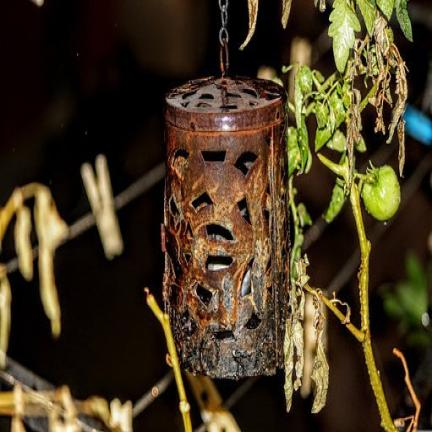karat: (162, 78, 289, 378)
